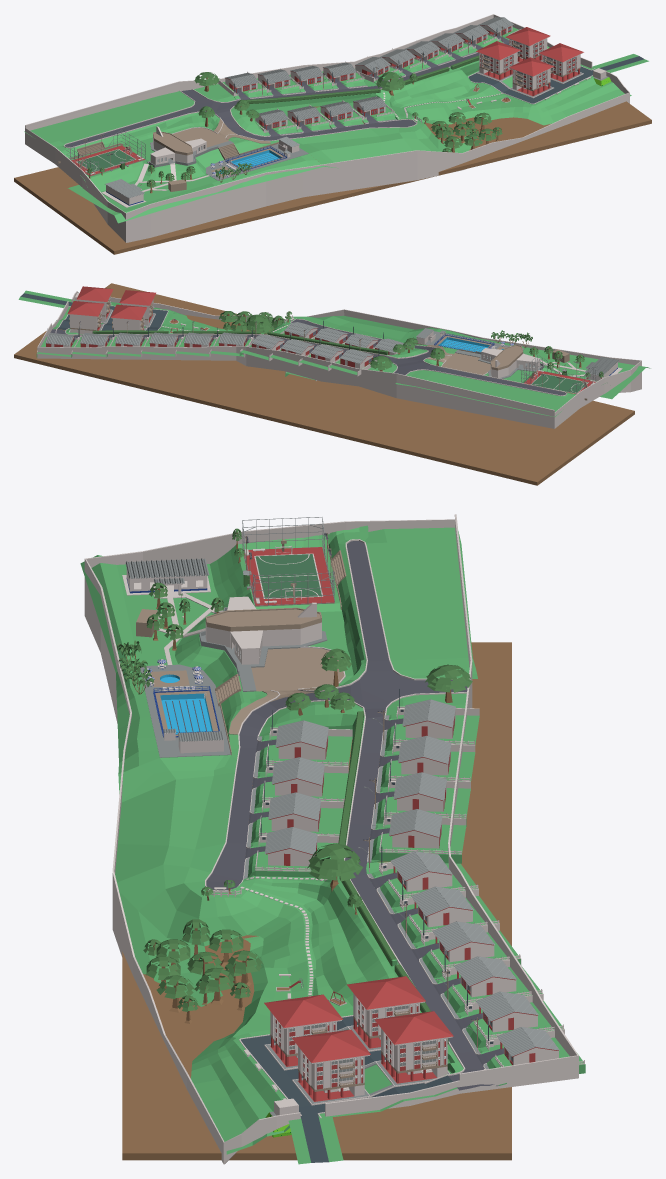
The model's file is santos_dumont_merged_clube_v3.gltf.
The picture shows the model from 3 angles, top to bottom: view 1: azimuth 30°, elevation 25°; view 2: azimuth 150°, elevation 25°; view 3: azimuth 270°, elevation 25°; orthographic projection. The views are drawn at different scales.
Visible parts, largest first — view 1: muro, grama, Length-310m, rua, clube-upper, clube-lower-plane, preio-telhado (×4), cerca-casa (×5), rua.002, quadra, cerca-viva, estacionamento (+6 smaller); view 2: Length-310m, muro, rua, grama, preio-telhado (×4), clube-lower-plane, rua.002, cerca-viva, quadra, estacionamento, clube-upper, guia (+6 smaller); view 3: grama, Length-310m, rua, cerca-casa (×14), muro, roof.001 (×14), clube-upper, clube-lower-plane, preio-telhado (×4), rua.002, quadra, rua.003 (+10 smaller).
Boxes of the visible parts, x1,y1,x2,y2 form: muro: [25, 14, 629, 242]; grama: [231, 60, 631, 168]; Length-310m: [14, 101, 651, 254]; rua: [24, 79, 416, 147]; clube-upper: [55, 112, 270, 191]; clube-lower-plane: [68, 154, 323, 223]; preio-telhado (×4): [476, 27, 583, 76]; cerca-casa (×5): [218, 80, 397, 136]; rua.002: [468, 46, 648, 103]; quadra: [71, 145, 144, 175]; cerca-viva: [245, 55, 479, 103]; estacionamento: [172, 119, 237, 147]; Length-310m: [14, 283, 634, 485]; muro: [37, 291, 641, 428]; rua: [259, 319, 569, 416]; grama: [66, 302, 430, 357]; preio-telhado (×4): [67, 286, 155, 320]; clube-lower-plane: [429, 327, 650, 399]; rua.002: [18, 290, 167, 330]; cerca-viva: [92, 330, 388, 354]; quadra: [524, 370, 596, 394]; estacionamento: [426, 352, 490, 374]; clube-upper: [424, 346, 605, 399]; guia: [405, 358, 567, 396]; grama: [115, 701, 462, 1154]; Length-310m: [122, 642, 511, 1160]; rua: [206, 527, 477, 890]; cerca-casa (×14): [243, 706, 585, 1086]; muro: [84, 514, 578, 1164]; roof.001 (×14): [264, 699, 559, 1056]; clube-upper: [175, 525, 368, 734]; clube-lower-plane: [80, 555, 228, 774]; preio-telhado (×4): [264, 976, 453, 1063]; rua.002: [241, 1016, 457, 1164]; quadra: [244, 547, 334, 605]; rua.003: [350, 875, 494, 1090].
Bounding box in the file's own units: 341 × 44.59 × 130.
Materials: 14 (1 with a texture image).
